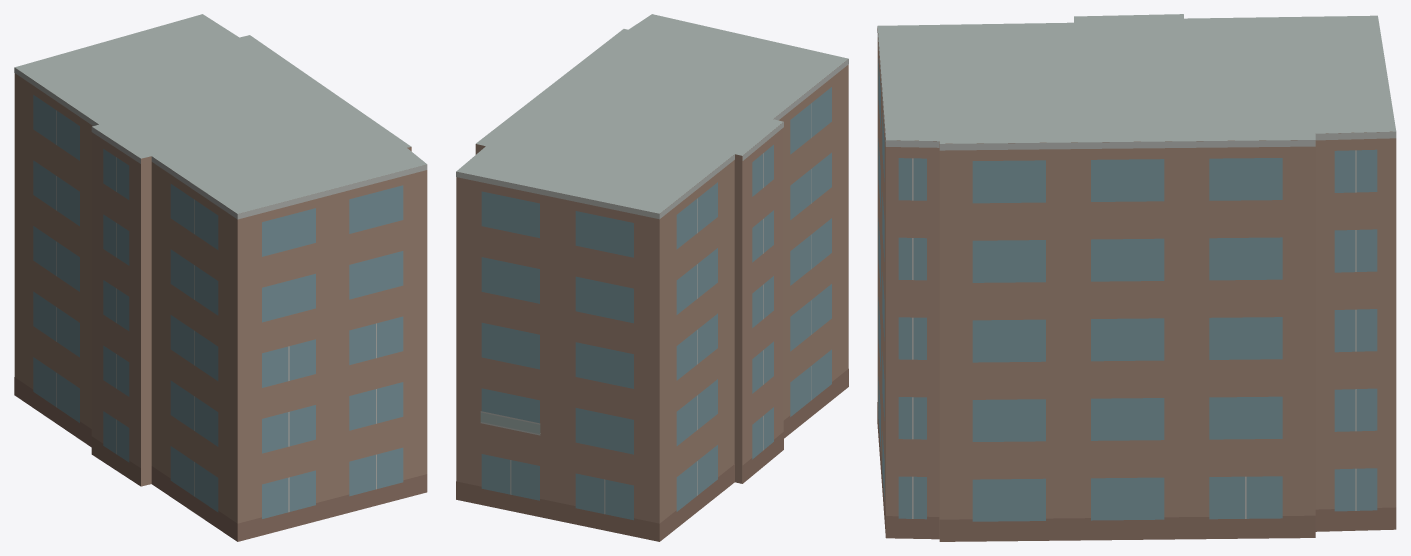
Rendered from survey-upis-32759392.glb.
3 views of the same model, side by side, from view 1: azimuth 30°, elevation 25°; view 2: azimuth 150°, elevation 25°; view 3: azimuth 270°, elevation 25° (orthographic). The views are drawn at different scales.
Visible parts, largest first — view 1: survey-upis-32759392.tmp; view 2: survey-upis-32759392.tmp; view 3: survey-upis-32759392.tmp.
Part boxes in pixels (x1,y1,x2,y2): survey-upis-32759392.tmp: (14, 14, 427, 541); survey-upis-32759392.tmp: (456, 14, 848, 541); survey-upis-32759392.tmp: (877, 14, 1396, 541).
Size of the model in its own units: 10.15 by 14.5 by 17.14.
